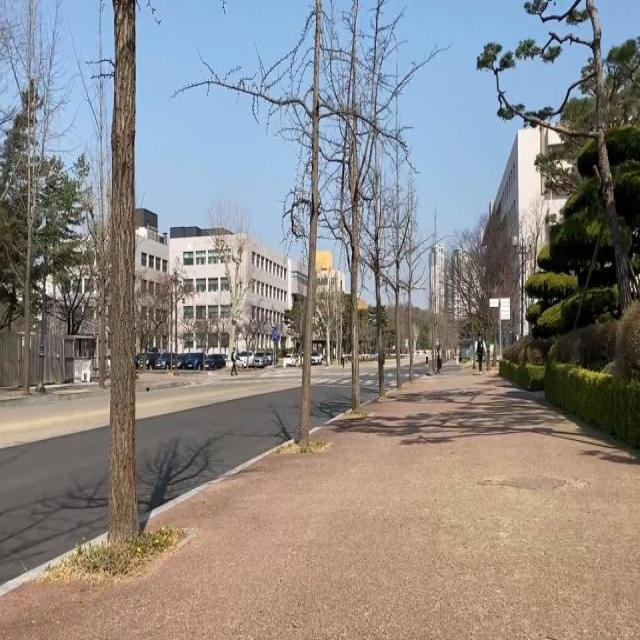sidewalk: (0, 376, 640, 640), (136, 374, 191, 387), (237, 367, 272, 376), (212, 369, 231, 376), (286, 366, 300, 370), (274, 367, 285, 372)
